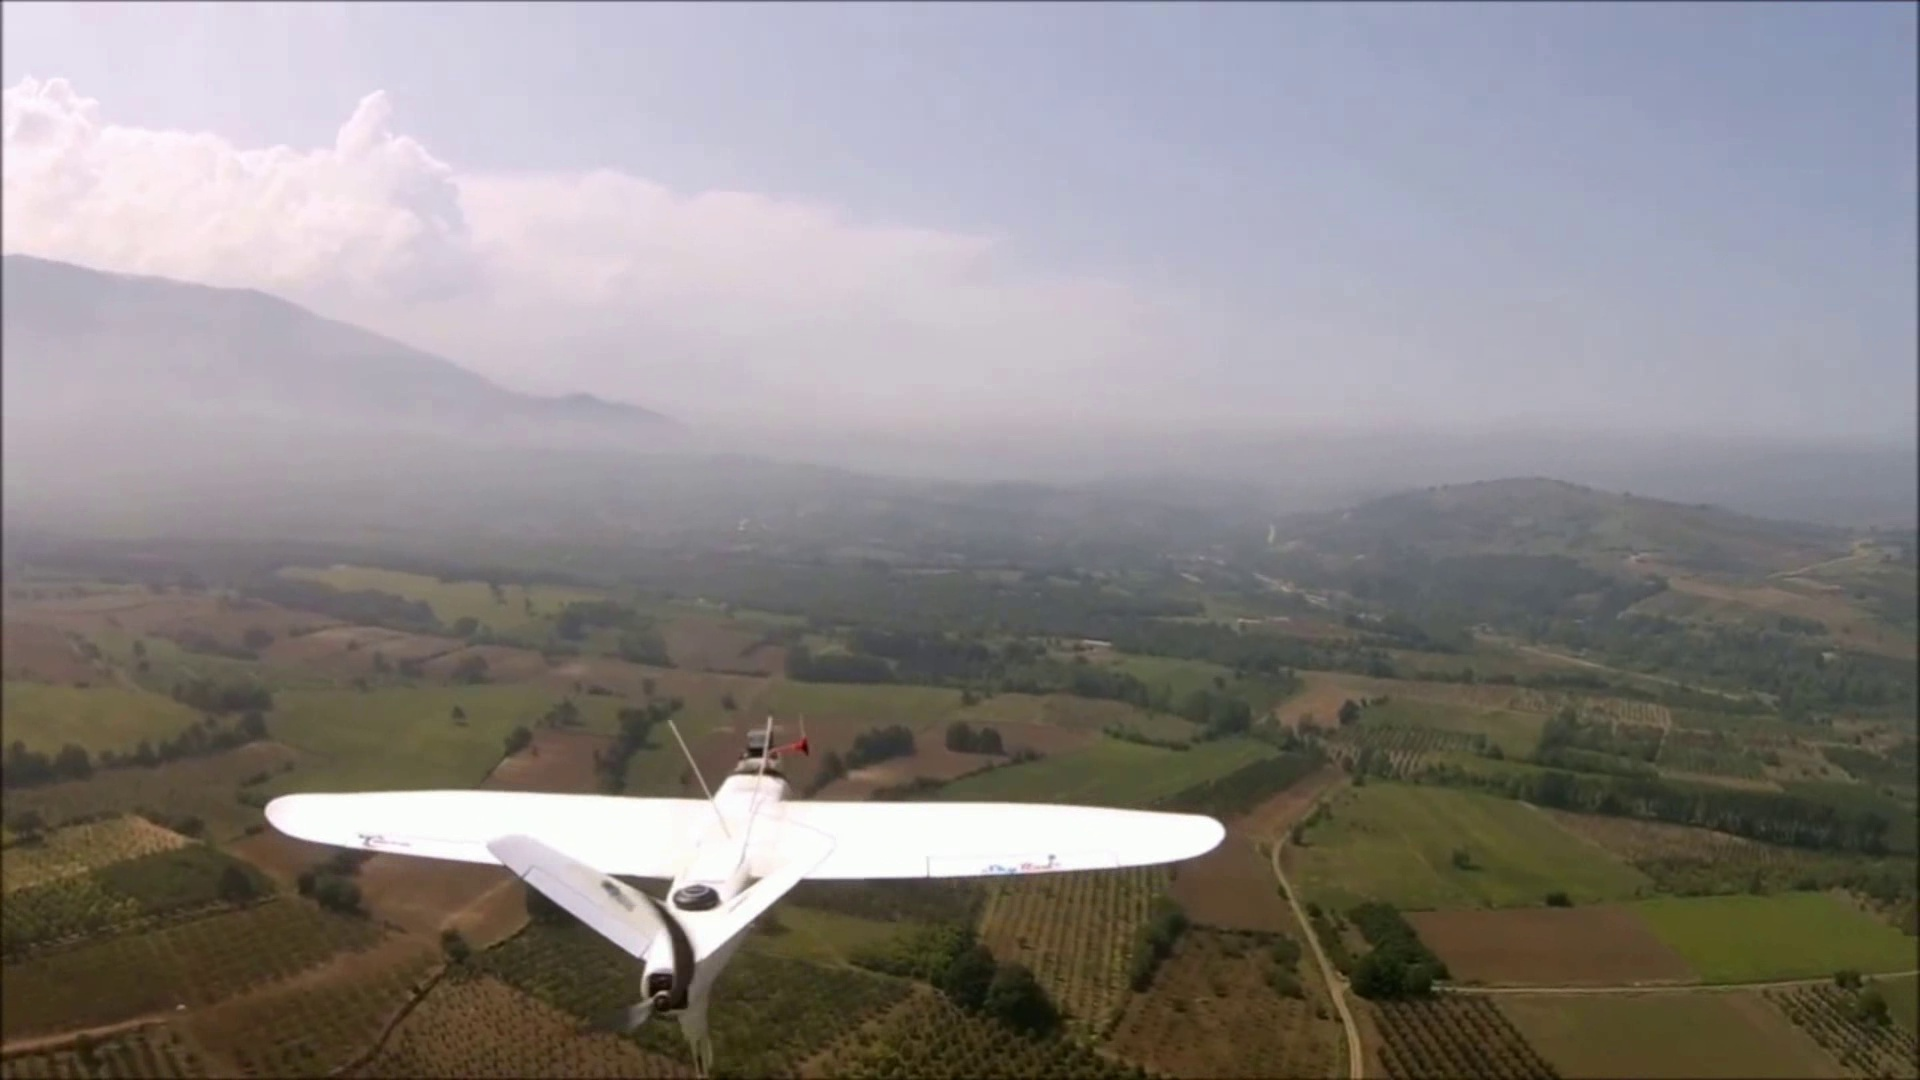airplane: (261, 735, 1222, 1069)
